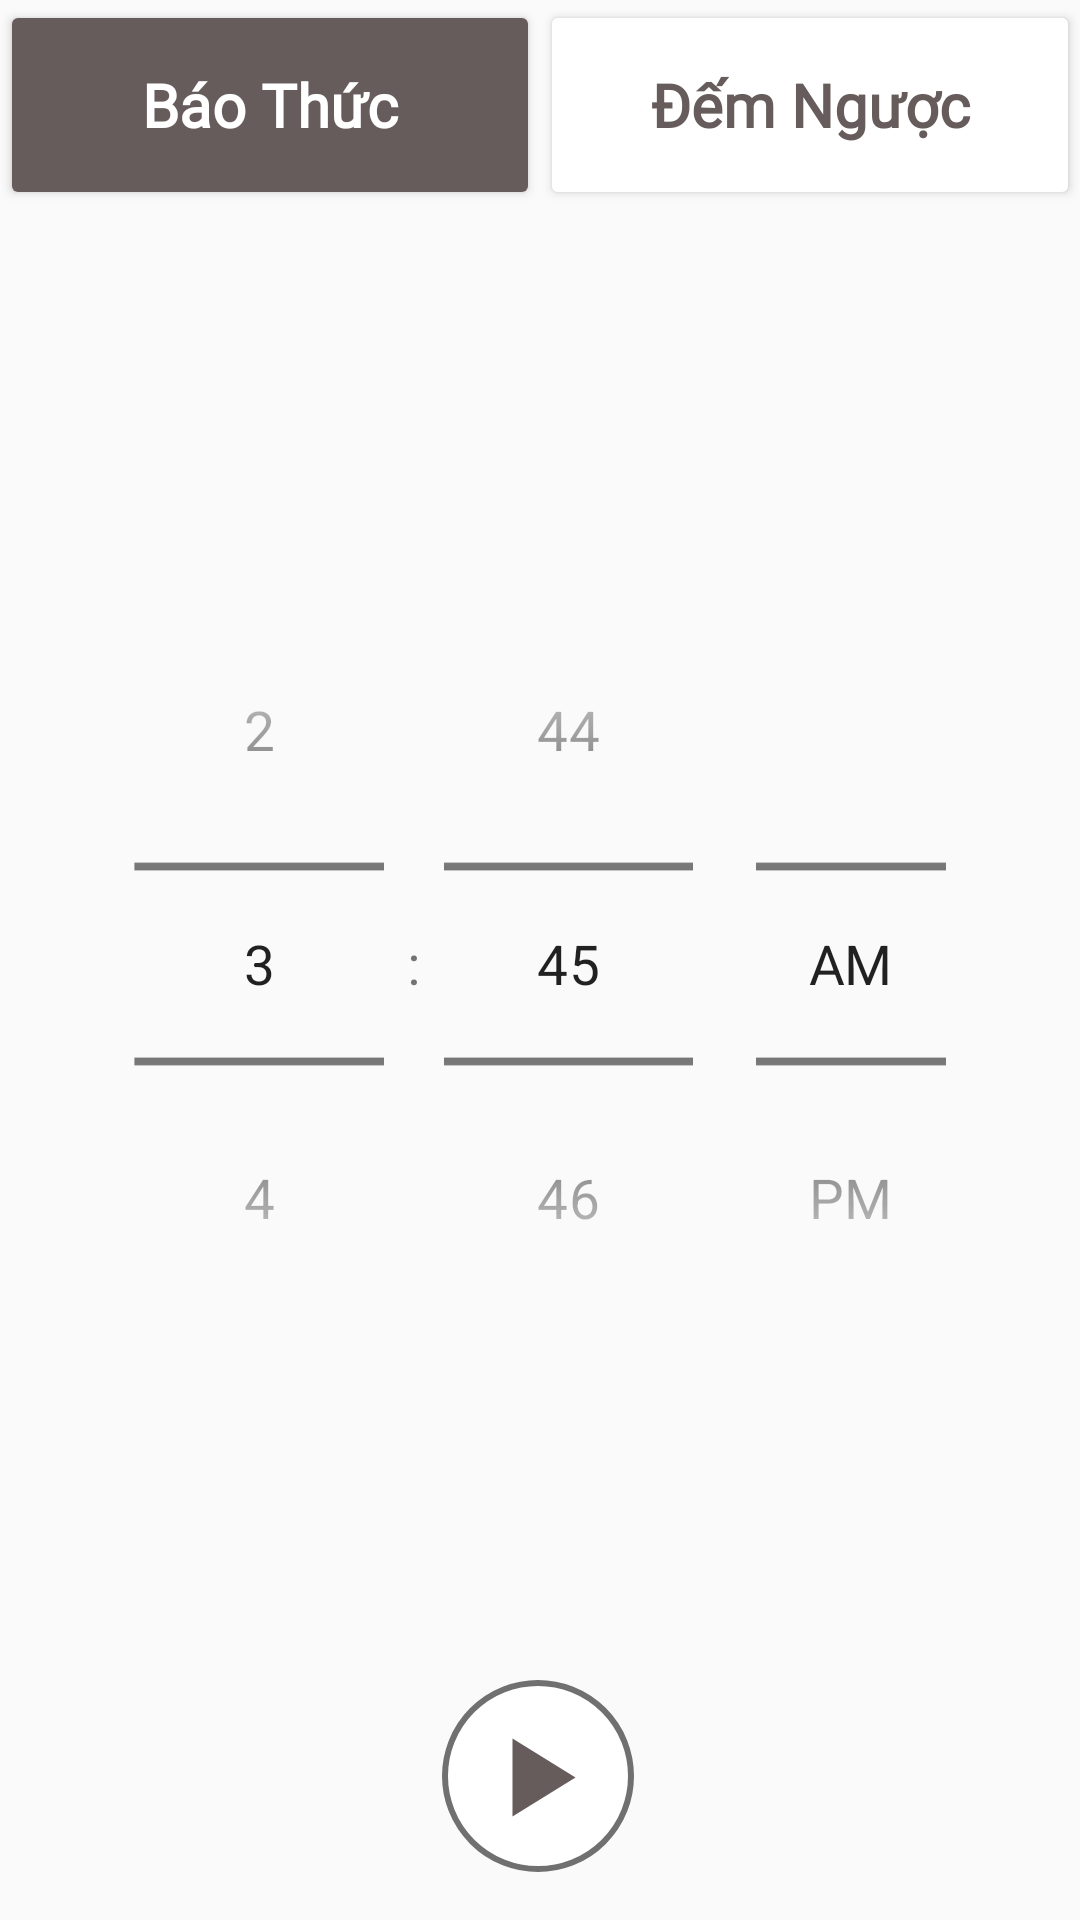

Screen size 1080 x 1920. Icon name, then its center in pixels as (x=x, y=y):
play: (x=538, y=1776)
